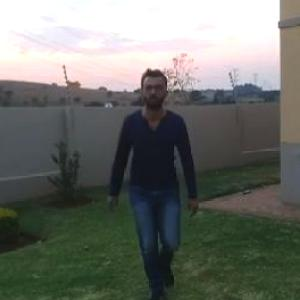follow: (116, 73, 193, 299)
